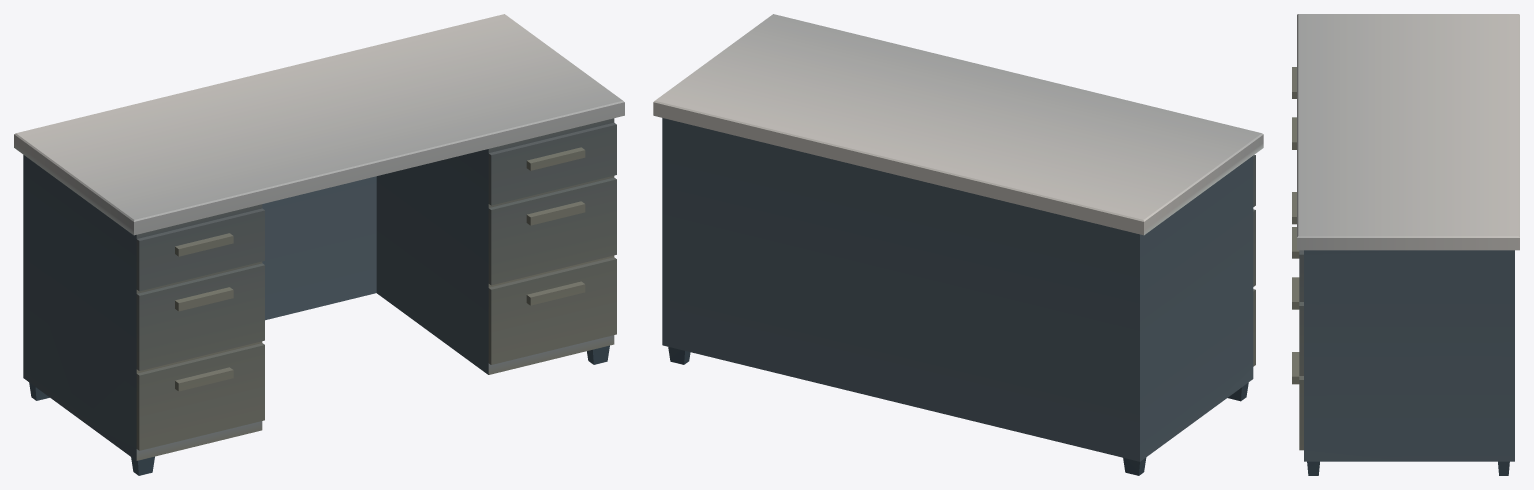
Rendered from desk04.glb.
3 renders of one model, left to right at view 1: azimuth 30°, elevation 25°; view 2: azimuth 150°, elevation 25°; view 3: azimuth 270°, elevation 25°, orthographic. The views are drawn at different scales.
Parts seen in each view (by area): view 1: desk04; view 2: desk04; view 3: desk04.
Boxes of the visible parts, x1,y1,x2,y2 form: desk04: [14, 14, 624, 475]; desk04: [653, 14, 1263, 475]; desk04: [1292, 14, 1519, 475].
Size of the model in its own units: 1.89 by 0.9678 by 0.8178.
Materials: 1 (1 with a texture image).
